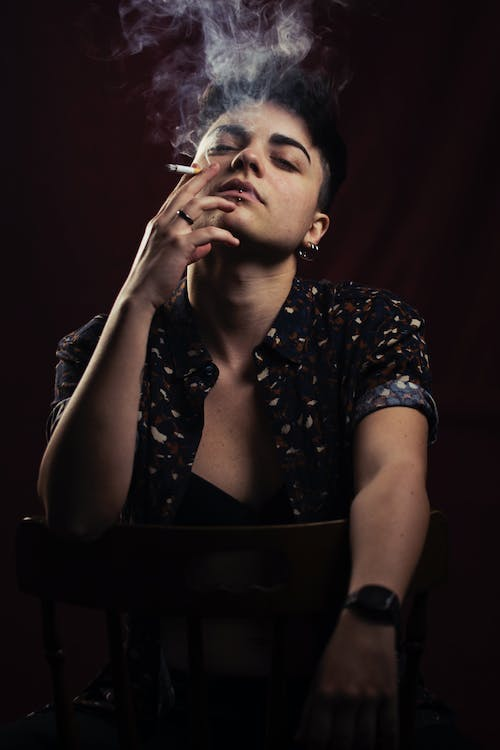cigarette: (167, 161, 203, 177)
